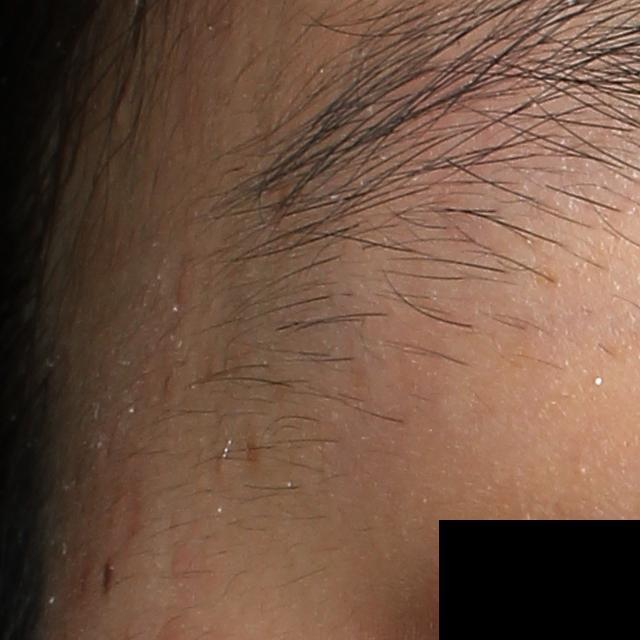nevus: (100, 558, 119, 606)
